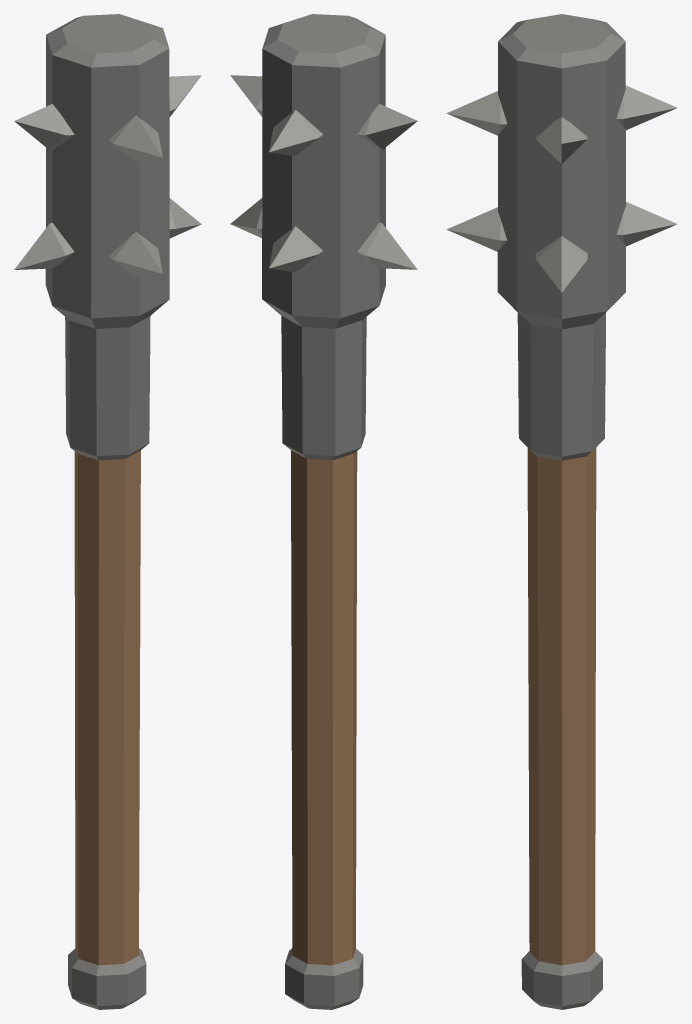
Rendered from SM_pwe_medieval_club_03.fbx.
3 renders of one model, left to right at view 1: azimuth 30°, elevation 25°; view 2: azimuth 150°, elevation 25°; view 3: azimuth 270°, elevation 25°, orthographic.
Visible parts, largest first — view 1: SM_pwe_medieval_club_03; view 2: SM_pwe_medieval_club_03; view 3: SM_pwe_medieval_club_03.
Part boxes in pixels (x1,y1,x2,y2): SM_pwe_medieval_club_03: (14,14,201,1009); SM_pwe_medieval_club_03: (230,14,417,1009); SM_pwe_medieval_club_03: (446,14,677,1009).
Bounding box in the file's own units: 14.51 × 71.12 × 15.48.
